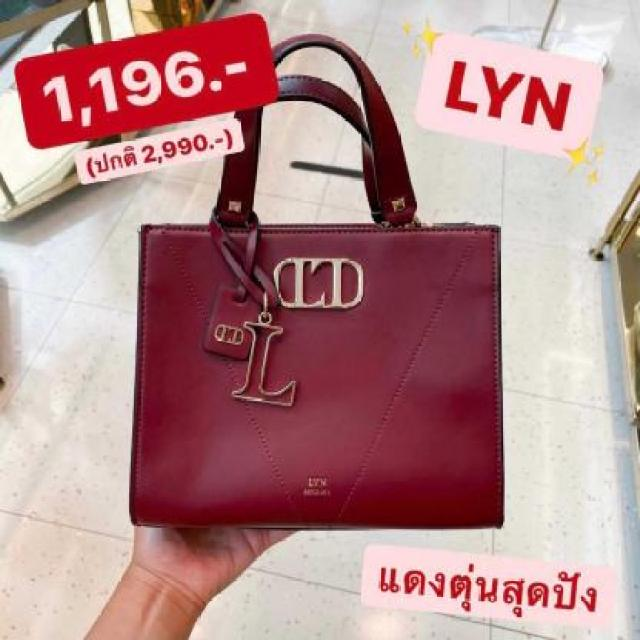Bag: (107, 33, 544, 544)
